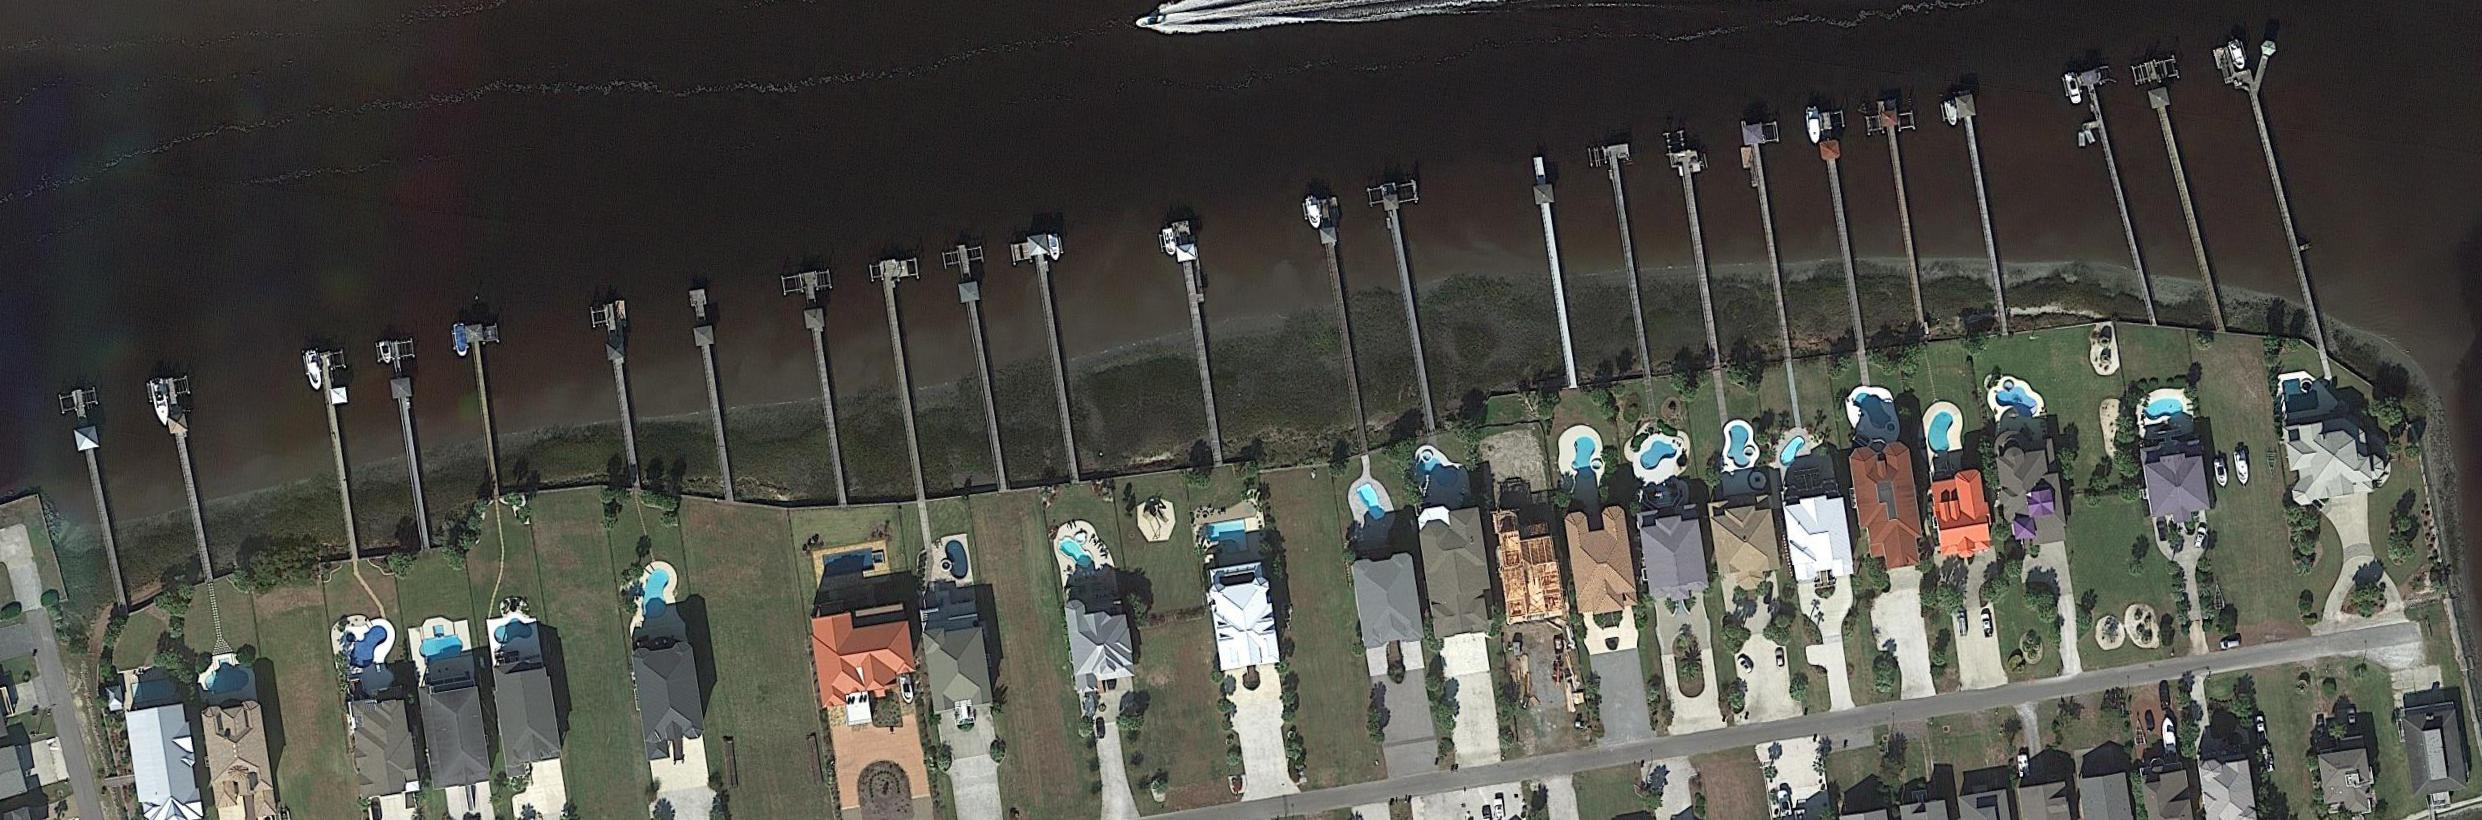harbor: (2214, 36, 2335, 332), (2139, 59, 2227, 315), (2074, 70, 2162, 323), (1008, 234, 1083, 484), (62, 386, 136, 613), (879, 256, 943, 499), (1377, 182, 1440, 426), (1738, 122, 1800, 359), (1315, 195, 1374, 443), (1171, 218, 1230, 461), (951, 245, 1010, 475), (1670, 149, 1732, 366), (1952, 93, 2012, 315), (798, 271, 855, 503), (1603, 142, 1660, 374), (1816, 111, 1871, 348), (1528, 155, 1583, 388), (1876, 100, 1931, 320), (158, 377, 218, 576), (685, 288, 739, 499), (381, 340, 435, 543), (318, 350, 370, 557), (598, 301, 649, 483), (465, 325, 503, 492)
ship: (147, 378, 173, 427), (304, 350, 326, 393), (2226, 38, 2251, 70), (2063, 71, 2085, 106), (2161, 716, 2178, 757), (453, 325, 472, 356), (1304, 198, 1323, 230), (2233, 448, 2249, 484), (899, 673, 915, 704), (1808, 108, 1820, 146), (2213, 457, 2229, 488), (1133, 14, 1167, 28), (1942, 100, 1960, 127), (1048, 233, 1064, 261), (1162, 225, 1176, 256), (1778, 790, 1792, 818)
